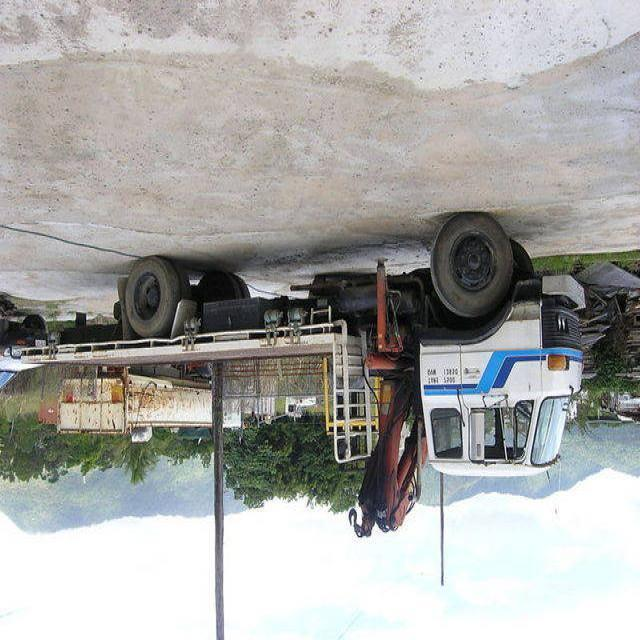Truck: (18, 214, 584, 546)
